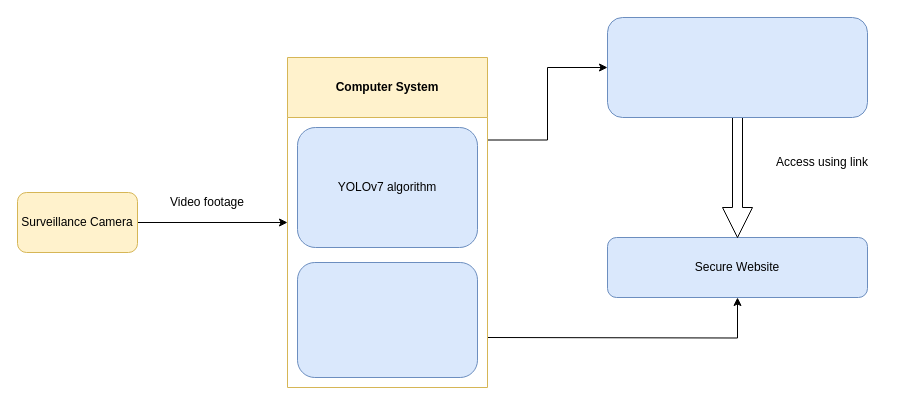
Some shapes in this 915 by 405 pixel diagram are drawn without their labels. Here are the shapes that lost their labels. From the top down, the centre of each, then its label:
At (x=737, y=67): "Email alert with website link".
At (x=387, y=320): "Thermal map Using CV".
